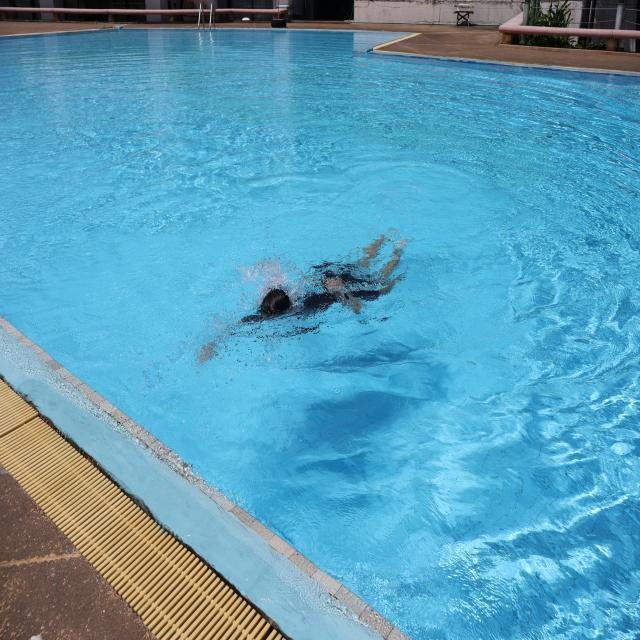Swimming: (194, 224, 412, 364)
